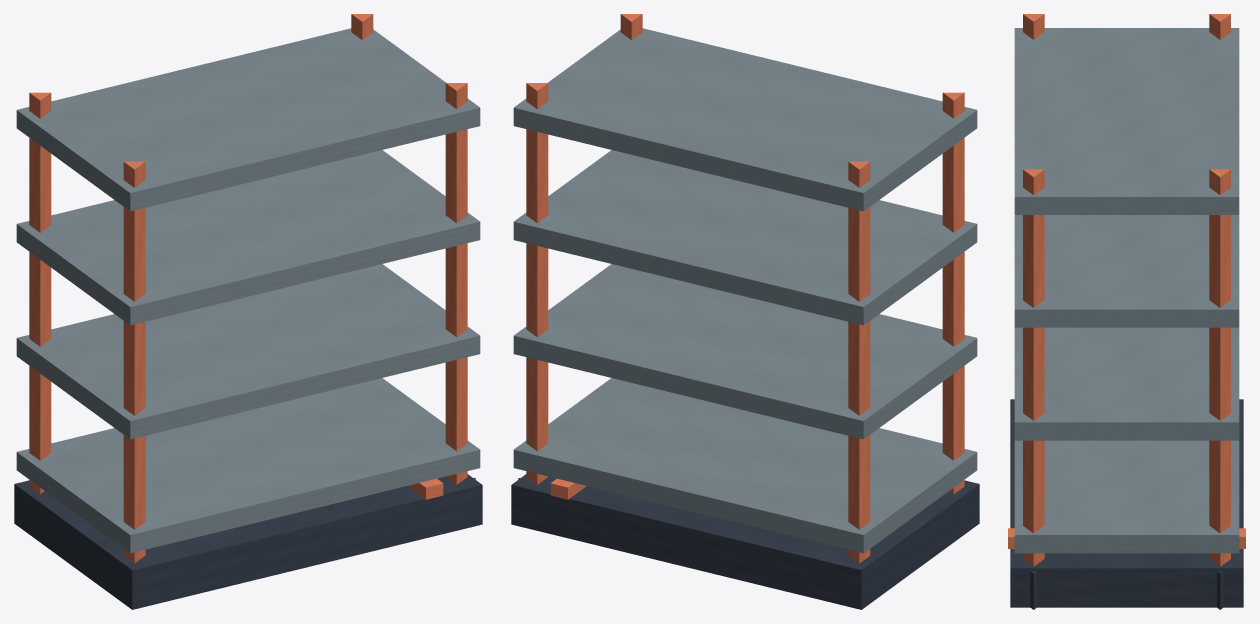
File: atlas100-s022-a06.lod2.glb
3 views of the same model, side by side, from view 1: azimuth 30°, elevation 25°; view 2: azimuth 150°, elevation 25°; view 3: azimuth 270°, elevation 25° (orthographic).
Parts seen in each view (by area): view 1: atlas100-s022-a06:part-014, atlas100-s022-a06:part-011, atlas100-s022-a06:part-013, atlas100-s022-a06:part-012, atlas100-s022-a06:part-000, atlas100-s022-a06:part-005, atlas100-s022-a06:part-009, atlas100-s022-a06:part-003; view 2: atlas100-s022-a06:part-014, atlas100-s022-a06:part-011, atlas100-s022-a06:part-013, atlas100-s022-a06:part-012, atlas100-s022-a06:part-000, atlas100-s022-a06:part-003, atlas100-s022-a06:part-007, atlas100-s022-a06:part-005; view 3: atlas100-s022-a06:part-014, atlas100-s022-a06:part-011, atlas100-s022-a06:part-012, atlas100-s022-a06:part-013, atlas100-s022-a06:part-000, atlas100-s022-a06:part-007, atlas100-s022-a06:part-009, atlas100-s022-a06:part-003, atlas100-s022-a06:part-005.
Boxes of the visible parts, box(x1,y1,x2,y2) form: atlas100-s022-a06:part-014: box(16, 28, 480, 211); atlas100-s022-a06:part-011: box(16, 378, 480, 553); atlas100-s022-a06:part-013: box(16, 150, 480, 325); atlas100-s022-a06:part-012: box(16, 264, 480, 439); atlas100-s022-a06:part-000: box(14, 474, 482, 609); atlas100-s022-a06:part-005: box(123, 161, 145, 563); atlas100-s022-a06:part-009: box(445, 83, 467, 484); atlas100-s022-a06:part-003: box(29, 92, 51, 494); atlas100-s022-a06:part-014: box(513, 28, 977, 211); atlas100-s022-a06:part-011: box(513, 378, 977, 553); atlas100-s022-a06:part-013: box(513, 150, 977, 325); atlas100-s022-a06:part-012: box(513, 264, 977, 439); atlas100-s022-a06:part-000: box(511, 474, 979, 609); atlas100-s022-a06:part-003: box(848, 161, 870, 563); atlas100-s022-a06:part-007: box(526, 83, 548, 484); atlas100-s022-a06:part-005: box(942, 92, 964, 494); atlas100-s022-a06:part-014: box(1014, 28, 1239, 214); atlas100-s022-a06:part-011: box(1014, 440, 1239, 553); atlas100-s022-a06:part-012: box(1014, 327, 1239, 440); atlas100-s022-a06:part-013: box(1014, 215, 1239, 327); atlas100-s022-a06:part-000: box(1010, 399, 1243, 607); atlas100-s022-a06:part-007: box(1209, 169, 1230, 566); atlas100-s022-a06:part-009: box(1023, 169, 1044, 566); atlas100-s022-a06:part-003: box(1209, 14, 1230, 39); atlas100-s022-a06:part-005: box(1023, 14, 1044, 39).
Size of the model in its own units: 2.43 by 2.84 by 1.43.
3 materials, 3 textured.
